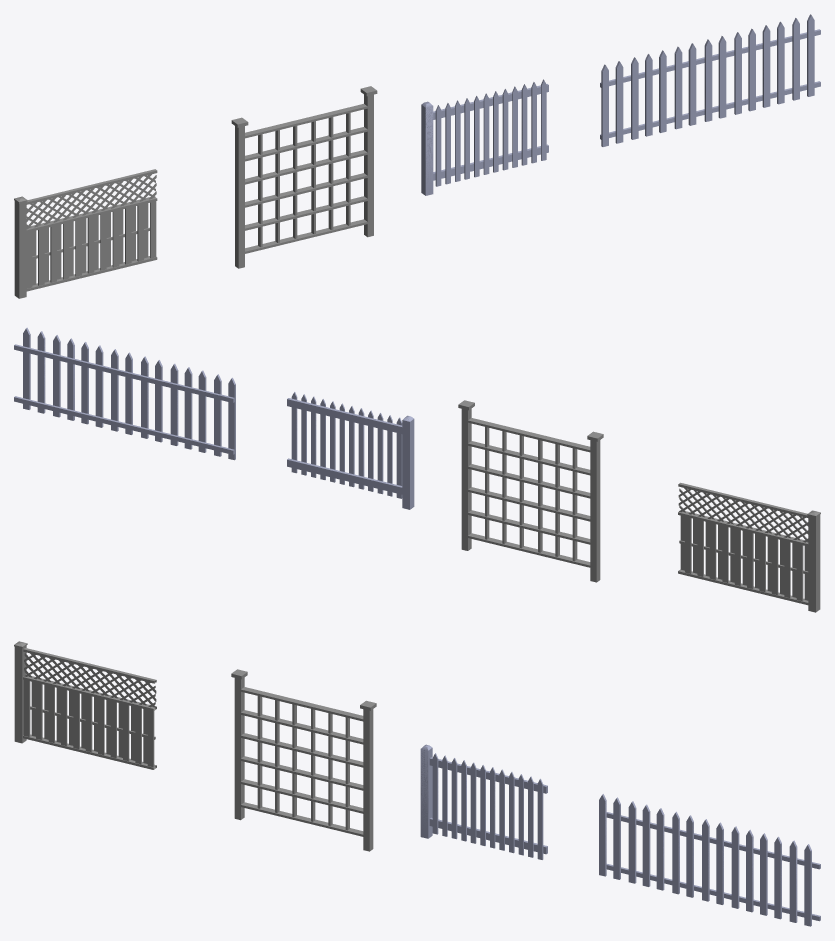
Rendered from Fences.FBX.
The picture shows the model from 3 angles, top to bottom: view 1: azimuth 30°, elevation 25°; view 2: azimuth 150°, elevation 25°; view 3: azimuth 330°, elevation 25°; orthographic projection.
Visible parts, largest first — view 1: Fence_4, Fence_1, Fence_3, Fence_2; view 2: Fence_4, Fence_1, Fence_3, Fence_2; view 3: Fence_4, Fence_1, Fence_3, Fence_2.
Boxes of the visible parts, x1=… form: Fence_4: x1=14, y1=169, x2=157, y2=298; Fence_1: x1=600, y1=14, x2=820, y2=146; Fence_3: x1=231, y1=86, x2=377, y2=268; Fence_2: x1=421, y1=79, x2=548, y2=195; Fence_4: x1=678, y1=482, x2=820, y2=612; Fence_1: x1=14, y1=327, x2=235, y2=460; Fence_3: x1=458, y1=400, x2=603, y2=582; Fence_2: x1=287, y1=392, x2=414, y2=509; Fence_4: x1=14, y1=641, x2=156, y2=769; Fence_1: x1=599, y1=794, x2=820, y2=926; Fence_3: x1=231, y1=669, x2=376, y2=851; Fence_2: x1=420, y1=744, x2=547, y2=859.
Bounding box in the file's own units: 421 × 5.5 × 72.8.
